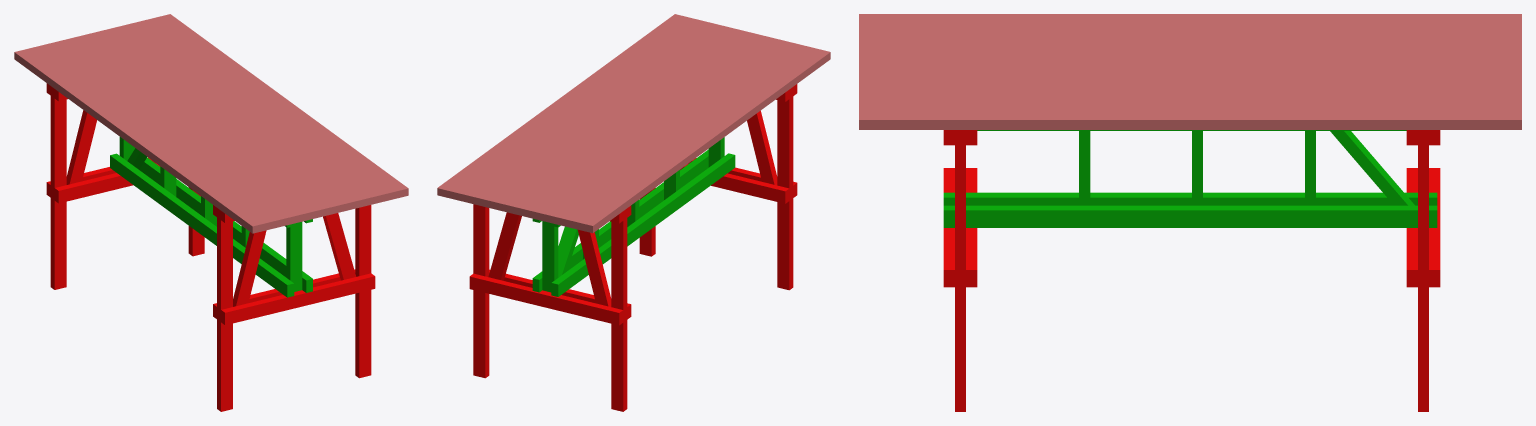
The model's file is result.glb.
The picture shows the model from 3 angles, left to right: view 1: azimuth 30°, elevation 25°; view 2: azimuth 150°, elevation 25°; view 3: azimuth 270°, elevation 25°; orthographic projection. The views are drawn at different scales.
Visible parts, largest first — view 1: b99676f7-9282-40d0-a843-ec020209f349__Box, 6a0fcff0-d329-4d91-b585-0b991a9f6e45__undefined, 93d77b4b-509f-4ab6-a4ab-85ca3df460c2__strutH, 612bf498-7b2a-460c-b4ac-80a1b6822195__undefined, ce5f78f6-d9a4-47cb-b002-1080711e2470__undefined, 5b9d3800-fde8-46b1-9b7a-7a8982dc83ef__undefined, 9b8e0242-f291-46ae-83a9-c05ece0ea096__undefined, 2818db6b-2ed3-45cb-b0c5-16b80b56b119__undefined, b5ff0bb2-df71-4b70-85d0-50bb93609b47__undefined, f5a0849a-6705-4ccd-9fdc-d03dc7821fc9__undefined, df04fd5d-5f97-4a80-8480-5a98799f26c0__undefined, 9808dec0-c3a8-4183-ab7b-bca98d270db9__undefined (+14 smaller); view 2: b99676f7-9282-40d0-a843-ec020209f349__Box, 6a0fcff0-d329-4d91-b585-0b991a9f6e45__undefined, 61d22727-84bd-4605-b761-3f7fccec0521__sideV, 93d77b4b-509f-4ab6-a4ab-85ca3df460c2__strutH, 95b1e7bd-39e7-493c-95f9-a647e235c3f4__undefined, 9b8e0242-f291-46ae-83a9-c05ece0ea096__undefined, f5a0849a-6705-4ccd-9fdc-d03dc7821fc9__undefined, 68db4d28-3ccd-476c-bc8c-86976e680a4a__undefined, f323af37-d9e3-4a58-b303-3de4a7e3a25d__undefined, 2818db6b-2ed3-45cb-b0c5-16b80b56b119__undefined, df04fd5d-5f97-4a80-8480-5a98799f26c0__undefined, 5b9d3800-fde8-46b1-9b7a-7a8982dc83ef__undefined (+15 smaller); view 3: 9b8e0242-f291-46ae-83a9-c05ece0ea096__undefined, a774ed4e-f32d-41d4-8ed8-d0d843d1ec24__strutH, b5ff0bb2-df71-4b70-85d0-50bb93609b47__undefined, 612bf498-7b2a-460c-b4ac-80a1b6822195__undefined, f5a0849a-6705-4ccd-9fdc-d03dc7821fc9__undefined, 68db4d28-3ccd-476c-bc8c-86976e680a4a__undefined, ce5f78f6-d9a4-47cb-b002-1080711e2470__undefined, f323af37-d9e3-4a58-b303-3de4a7e3a25d__undefined, df04fd5d-5f97-4a80-8480-5a98799f26c0__undefined, 9808dec0-c3a8-4183-ab7b-bca98d270db9__undefined, 5b9d3800-fde8-46b1-9b7a-7a8982dc83ef__undefined, 95b1e7bd-39e7-493c-95f9-a647e235c3f4__undefined (+13 smaller).
Boxes of the visible parts, x1=… form: b99676f7-9282-40d0-a843-ec020209f349__Box: x1=14, y1=49, x2=264, y2=233; 6a0fcff0-d329-4d91-b585-0b991a9f6e45__undefined: x1=50, y1=86, x2=66, y2=289; 93d77b4b-509f-4ab6-a4ab-85ca3df460c2__strutH: x1=110, y1=153, x2=294, y2=297; 612bf498-7b2a-460c-b4ac-80a1b6822195__undefined: x1=38, y1=43, x2=288, y2=227; ce5f78f6-d9a4-47cb-b002-1080711e2470__undefined: x1=74, y1=34, x2=324, y2=218; 5b9d3800-fde8-46b1-9b7a-7a8982dc83ef__undefined: x1=134, y1=20, x2=384, y2=204; 9b8e0242-f291-46ae-83a9-c05ece0ea096__undefined: x1=159, y1=14, x2=408, y2=198; 2818db6b-2ed3-45cb-b0c5-16b80b56b119__undefined: x1=86, y1=31, x2=336, y2=215; b5ff0bb2-df71-4b70-85d0-50bb93609b47__undefined: x1=26, y1=46, x2=276, y2=230; f5a0849a-6705-4ccd-9fdc-d03dc7821fc9__undefined: x1=51, y1=40, x2=300, y2=224; df04fd5d-5f97-4a80-8480-5a98799f26c0__undefined: x1=111, y1=25, x2=360, y2=209; 9808dec0-c3a8-4183-ab7b-bca98d270db9__undefined: x1=123, y1=23, x2=372, y2=207; b99676f7-9282-40d0-a843-ec020209f349__Box: x1=581, y1=49, x2=830, y2=233; 6a0fcff0-d329-4d91-b585-0b991a9f6e45__undefined: x1=611, y1=208, x2=627, y2=411; 61d22727-84bd-4605-b761-3f7fccec0521__sideV: x1=777, y1=87, x2=793, y2=290; 93d77b4b-509f-4ab6-a4ab-85ca3df460c2__strutH: x1=551, y1=153, x2=735, y2=296; 95b1e7bd-39e7-493c-95f9-a647e235c3f4__undefined: x1=449, y1=17, x2=698, y2=200; 9b8e0242-f291-46ae-83a9-c05ece0ea096__undefined: x1=437, y1=14, x2=686, y2=197; f5a0849a-6705-4ccd-9fdc-d03dc7821fc9__undefined: x1=545, y1=40, x2=794, y2=224; 68db4d28-3ccd-476c-bc8c-86976e680a4a__undefined: x1=533, y1=37, x2=782, y2=221; f323af37-d9e3-4a58-b303-3de4a7e3a25d__undefined: x1=497, y1=28, x2=746, y2=212; 2818db6b-2ed3-45cb-b0c5-16b80b56b119__undefined: x1=509, y1=31, x2=758, y2=215; df04fd5d-5f97-4a80-8480-5a98799f26c0__undefined: x1=485, y1=25, x2=734, y2=209; 5b9d3800-fde8-46b1-9b7a-7a8982dc83ef__undefined: x1=461, y1=20, x2=710, y2=203; 9b8e0242-f291-46ae-83a9-c05ece0ea096__undefined: x1=859, y1=111, x2=1521, y2=129; a774ed4e-f32d-41d4-8ed8-d0d843d1ec24__strutH: x1=943, y1=205, x2=1437, y2=227; b5ff0bb2-df71-4b70-85d0-50bb93609b47__undefined: x1=859, y1=22, x2=1521, y2=30; 612bf498-7b2a-460c-b4ac-80a1b6822195__undefined: x1=859, y1=30, x2=1521, y2=38; f5a0849a-6705-4ccd-9fdc-d03dc7821fc9__undefined: x1=859, y1=38, x2=1521, y2=46; 68db4d28-3ccd-476c-bc8c-86976e680a4a__undefined: x1=859, y1=46, x2=1521, y2=54; ce5f78f6-d9a4-47cb-b002-1080711e2470__undefined: x1=859, y1=54, x2=1521, y2=62; f323af37-d9e3-4a58-b303-3de4a7e3a25d__undefined: x1=859, y1=71, x2=1521, y2=79; df04fd5d-5f97-4a80-8480-5a98799f26c0__undefined: x1=859, y1=79, x2=1521, y2=87; 9808dec0-c3a8-4183-ab7b-bca98d270db9__undefined: x1=859, y1=87, x2=1521, y2=95; 5b9d3800-fde8-46b1-9b7a-7a8982dc83ef__undefined: x1=859, y1=95, x2=1521, y2=103; 95b1e7bd-39e7-493c-95f9-a647e235c3f4__undefined: x1=859, y1=103, x2=1521, y2=111.
Bounding box in the file's own units: 832 × 1077 × 2200.
